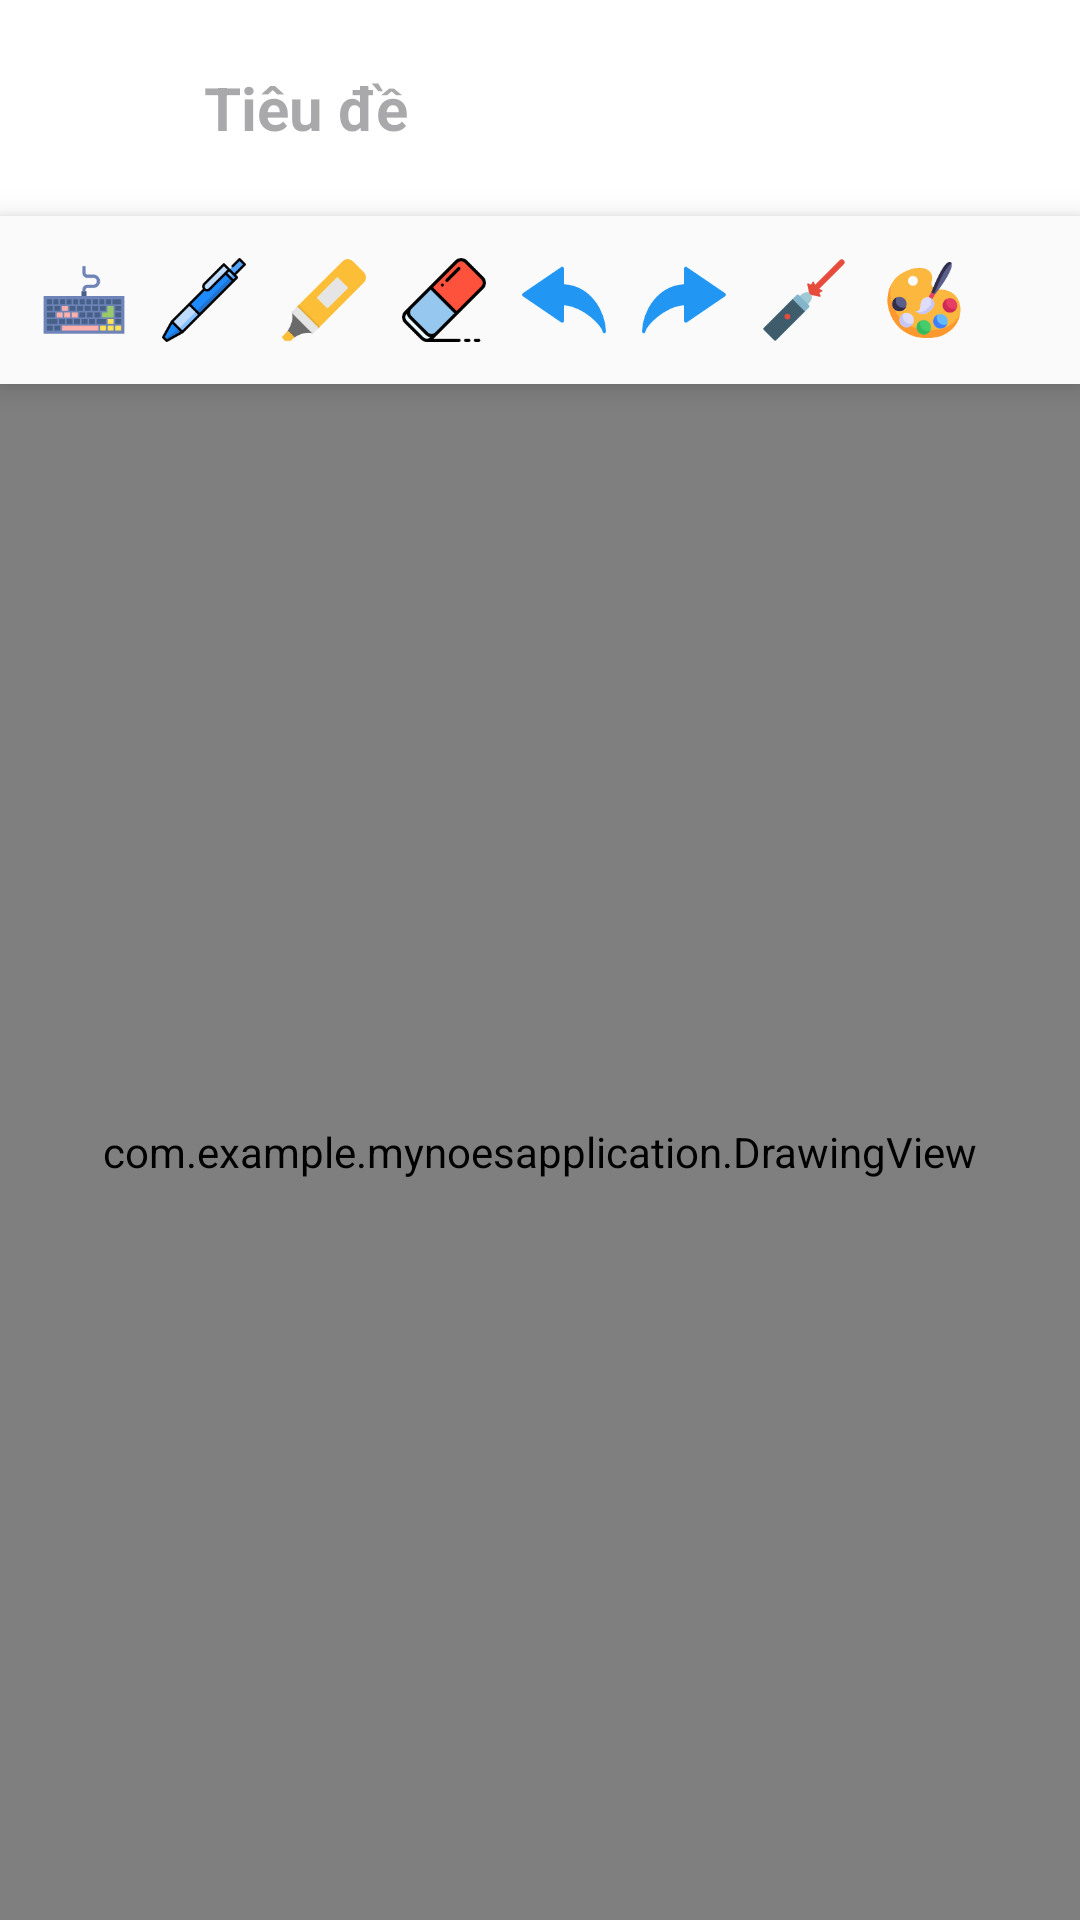

Where to tap for icons on this 1080w x 1920h app screen, as point (x, y):
Chọn màu: point (924, 300)
eraser: point (444, 300)
keyboard: point (84, 300)
laser: point (804, 300)
marker: point (324, 300)
pen: point (204, 300)
redo: point (684, 300)
undo: point (564, 300)
